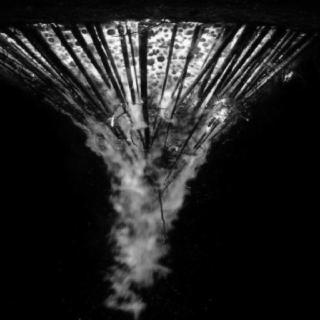Fire: (10, 21, 308, 317)
